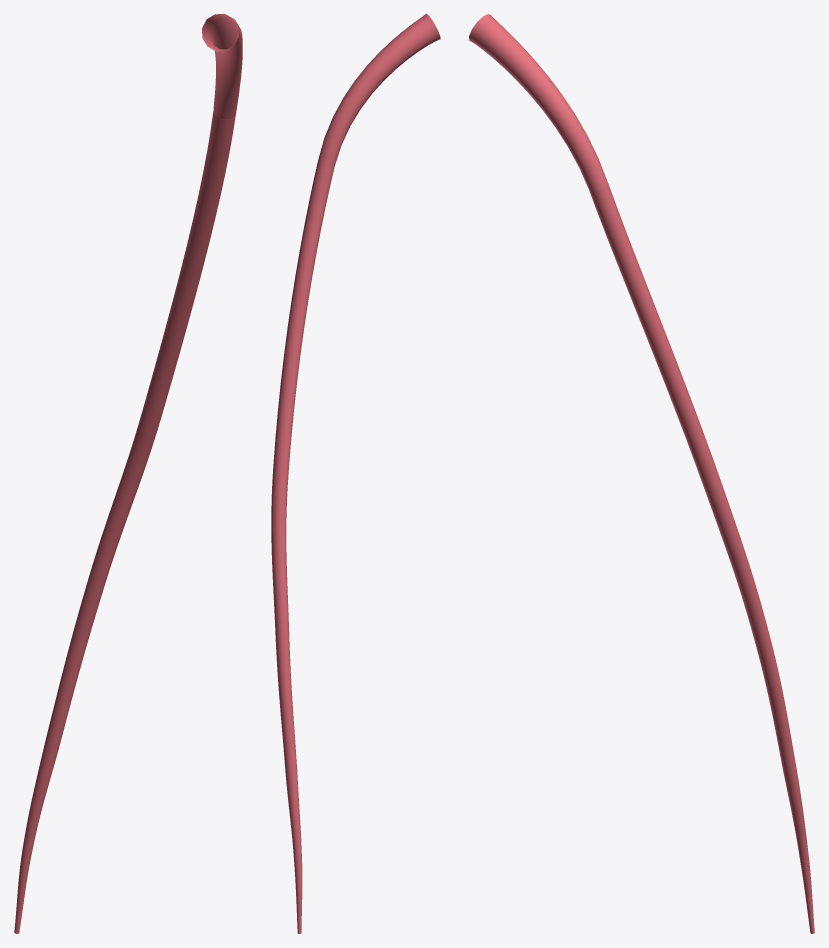
The picture shows the model from 3 angles, left to right: view 1: azimuth 30°, elevation 25°; view 2: azimuth 150°, elevation 25°; view 3: azimuth 270°, elevation 25°; orthographic projection. The views are drawn at different scales.
Parts seen in each view (by area): view 1: ZA_16729b0402df4ead; view 2: ZA_16729b0402df4ead; view 3: ZA_16729b0402df4ead.
Boxes of the visible parts, box(x1,y1,x2,y2) form: ZA_16729b0402df4ead: box(14, 14, 242, 933); ZA_16729b0402df4ead: box(271, 14, 440, 933); ZA_16729b0402df4ead: box(469, 14, 814, 933).
Bounding box in the file's own units: 0.00917 × 0.0898 × 0.0304.
